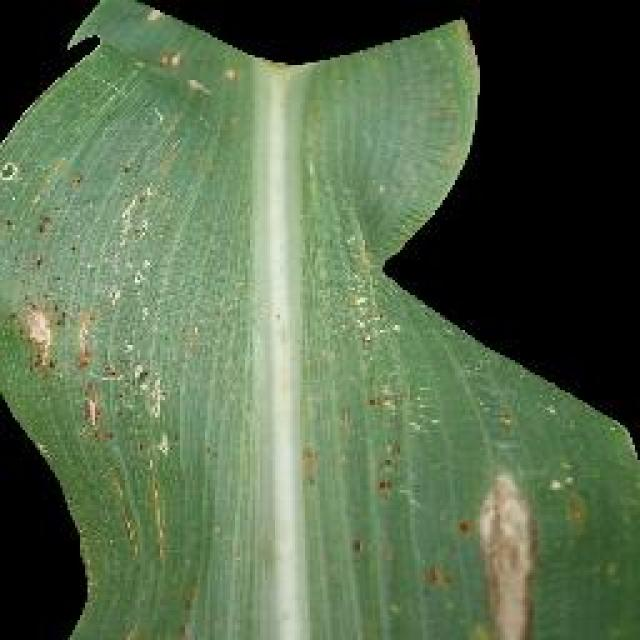Corn Common Rust: (135, 88, 563, 612)
